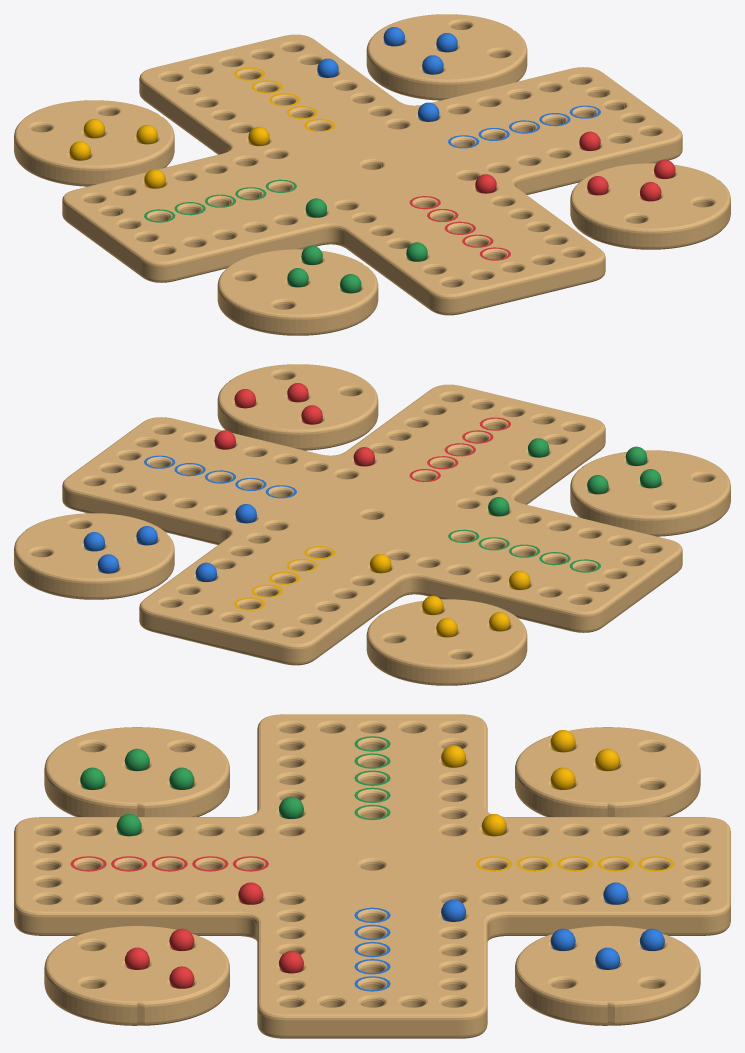
File: marralhinha.glb
The picture shows the model from 3 angles, top to bottom: view 1: azimuth 30°, elevation 25°; view 2: azimuth 150°, elevation 25°; view 3: azimuth 270°, elevation 25°; orthographic projection. The views are drawn at different scales.
Size of the model in its own units: 17.68 by 1.07 by 17.68.
